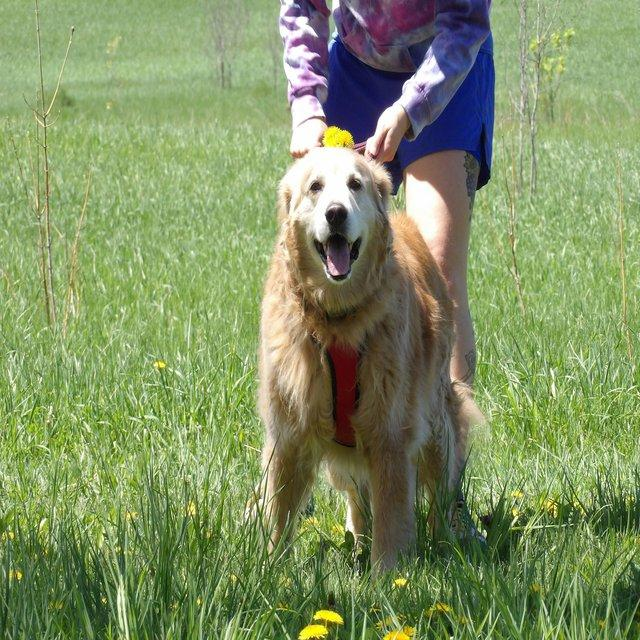retriever: (242, 137, 490, 581)
